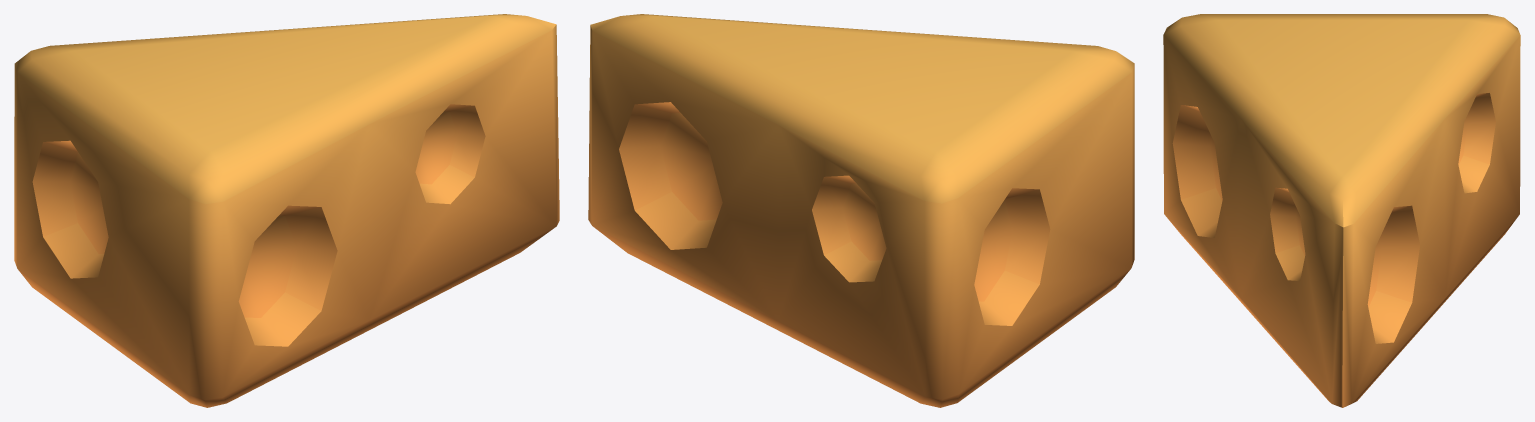
Rendered from Cheese.glb.
3 renders of one model, left to right at view 1: azimuth 30°, elevation 25°; view 2: azimuth 150°, elevation 25°; view 3: azimuth 270°, elevation 25°, orthographic. The views are drawn at different scales.
Visible parts, largest first — view 1: food_ingredient_cheese; view 2: food_ingredient_cheese; view 3: food_ingredient_cheese.
Part boxes in pixels (x1,y1,x2,y2): food_ingredient_cheese: [14, 14, 559, 407]; food_ingredient_cheese: [588, 14, 1134, 407]; food_ingredient_cheese: [1163, 14, 1520, 407].
Bounding box in the file's own units: 0.9766 × 0.5 × 0.722.
Materials: 1 (1 with a texture image).
